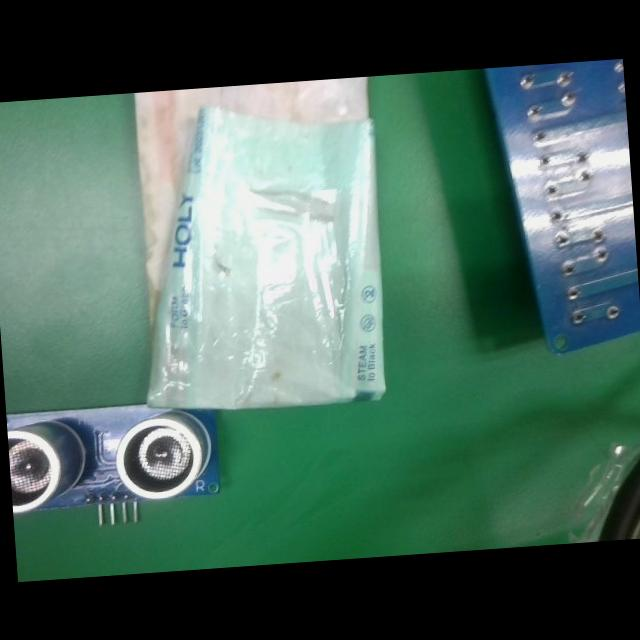relay_module: (479, 58, 640, 356)
triple_syringe: (124, 76, 393, 418)
ultrasonic_hc-sr04: (6, 398, 225, 530)
